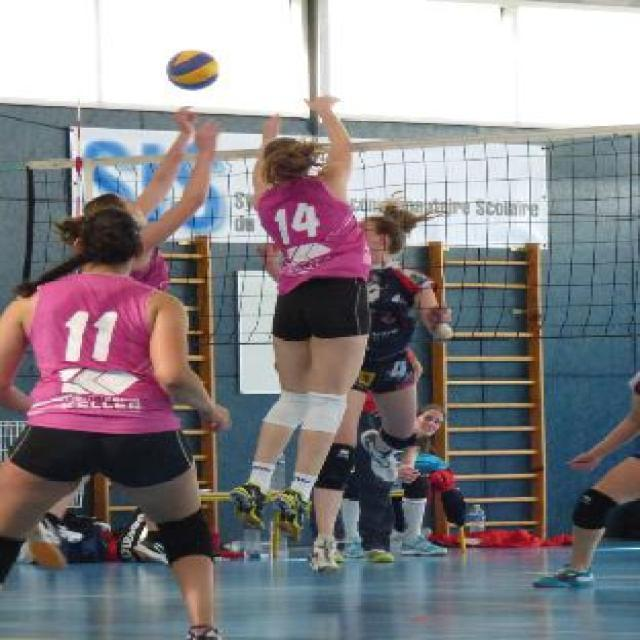volleyball: (166, 50, 220, 90)
